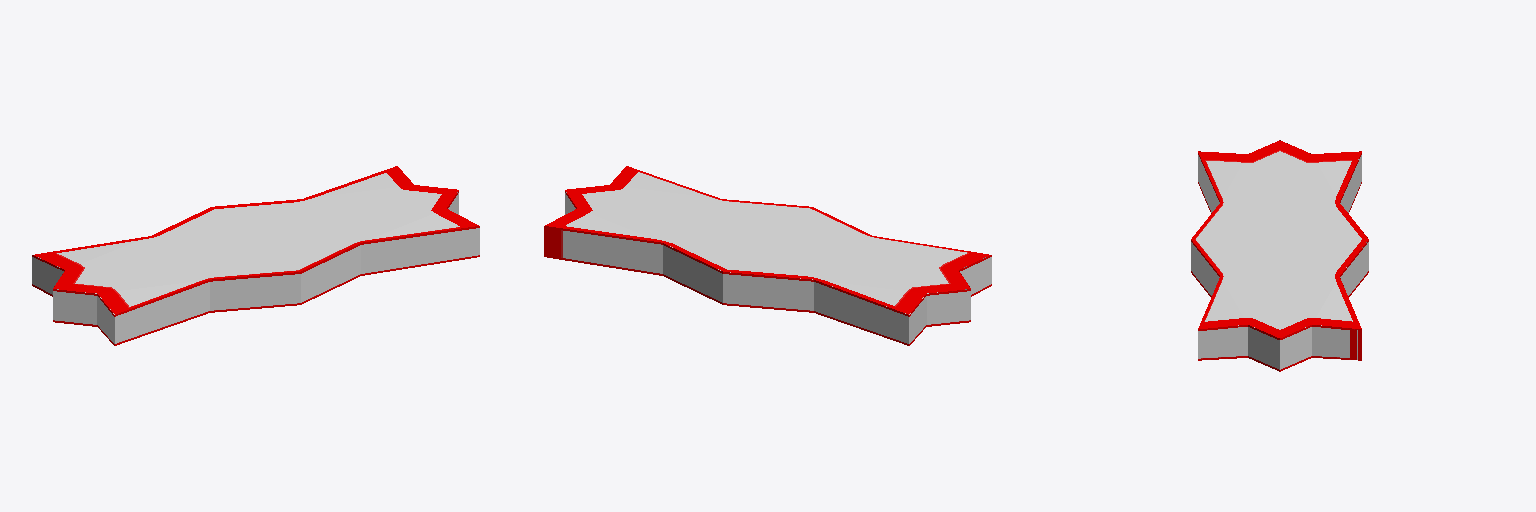
3 views of the same model, side by side, from view 1: azimuth 30°, elevation 25°; view 2: azimuth 150°, elevation 25°; view 3: azimuth 270°, elevation 25° (orthographic).
Parts seen in each view (by area): view 1: Cube; view 2: Cube; view 3: Cube.
Part boxes in pixels (x1,y1,x2,y2): Cube: (32,166,479,345); Cube: (544,166,991,345); Cube: (1191,140,1368,371).
Size of the model in its own units: 2.53 by 0.1982 by 0.9606.
1 materials, 1 textured.